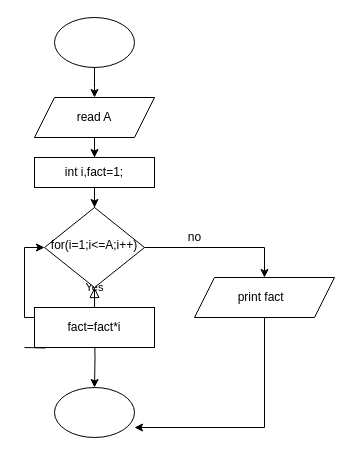
Some shapes in this 352 by 455 pixel diagram are drawn without their labels. The shapes that lost their labels are listed below. From the top down, each one's centre as x and y in pixels, then its label:
At (x=94, y=42): "START".
At (x=94, y=412): "STOP".
